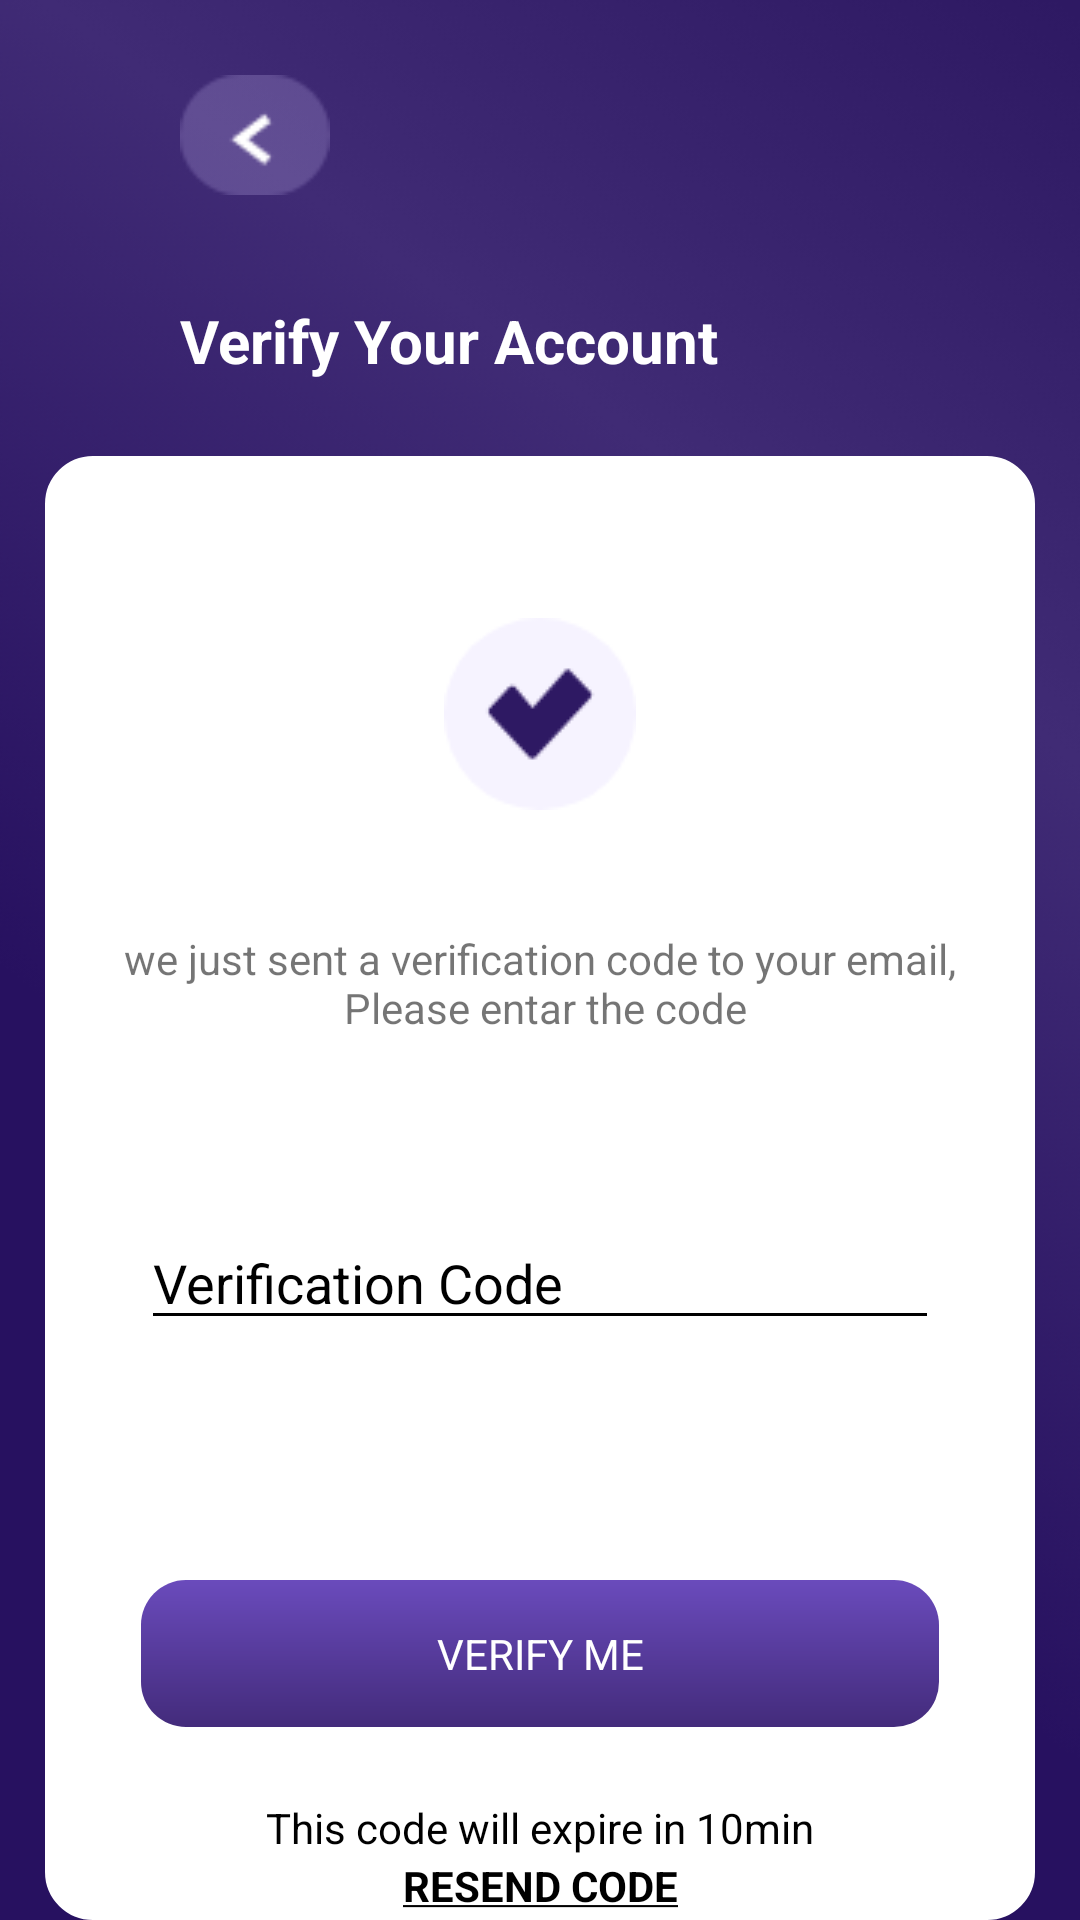

Locate icon controls on the screen. Image size 1080w x 1920h, boxes as (x1, y1, x2, y2).
backarrow: (180, 75, 330, 195)
bluemark: (487, 668, 594, 760)
